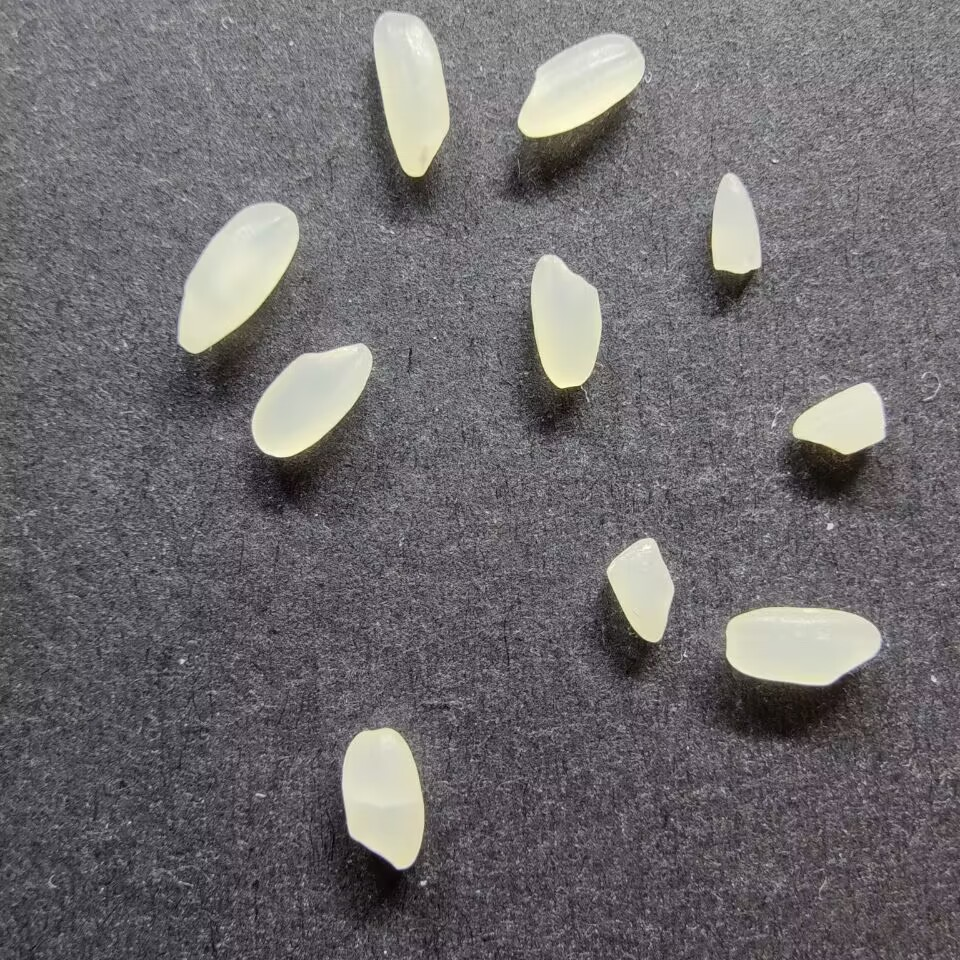broken: (602, 536, 676, 644), (790, 381, 888, 456), (708, 172, 763, 277)
rice: (173, 199, 300, 355), (248, 340, 374, 460), (369, 8, 453, 179), (515, 31, 646, 139), (723, 604, 882, 689), (340, 727, 428, 872), (529, 252, 603, 390)
